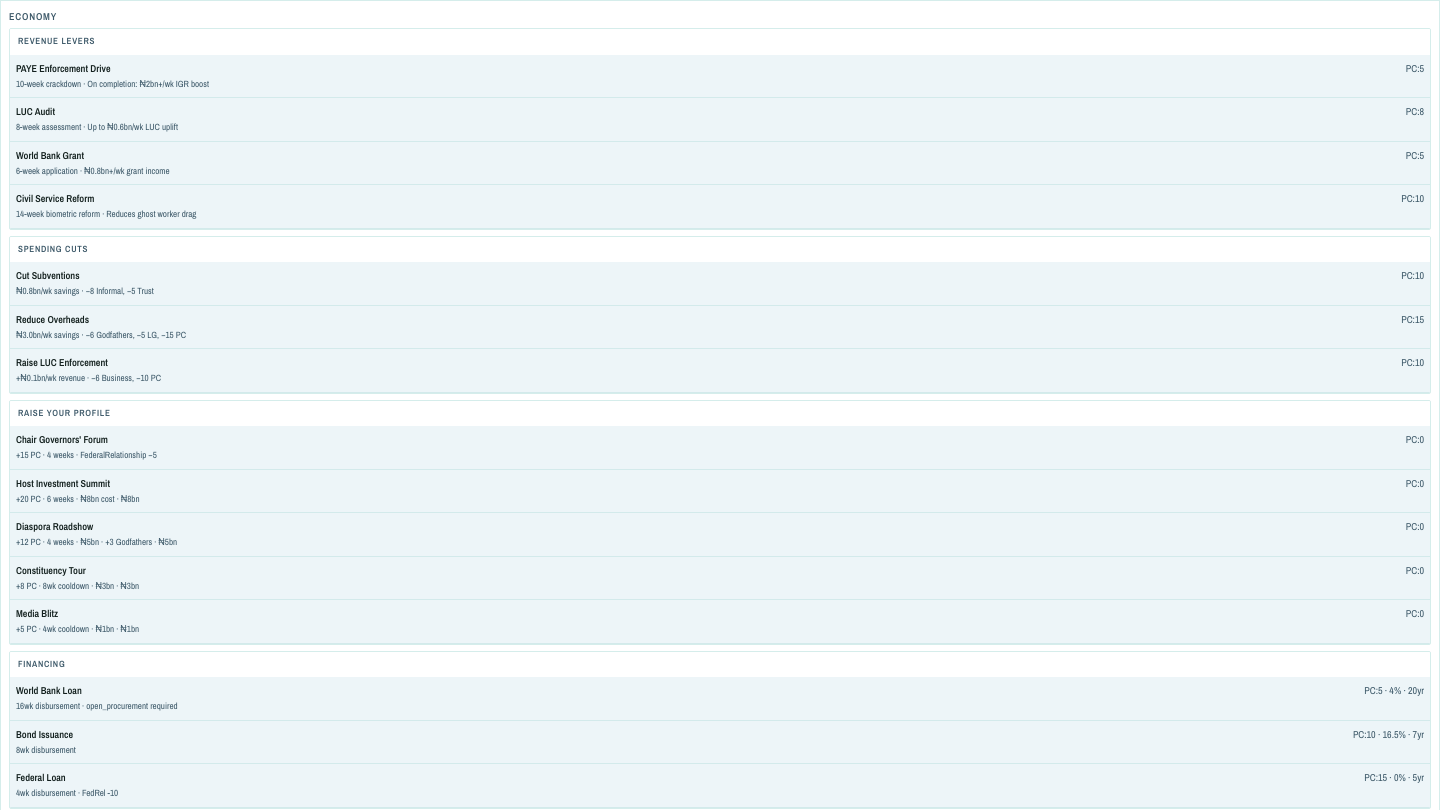
Test: EconomyPanel › opens initiative confirmation on click
The image size is (1440, 810).
Click the text "PAYE Enforcement Drive" at (63, 68), box [16,60,110,76]
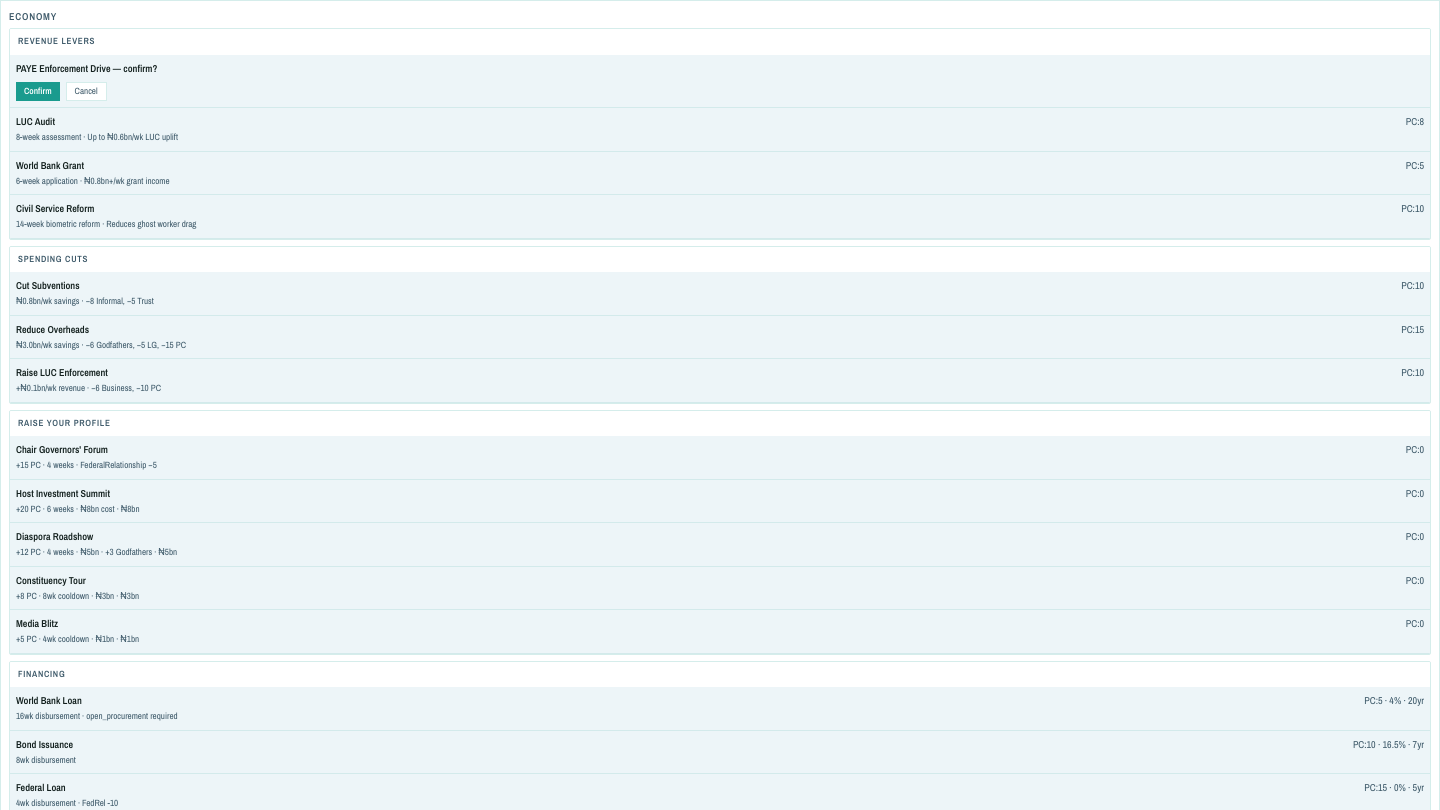
Expected: the button "Confirm" is shown, [16,82,60,101]
